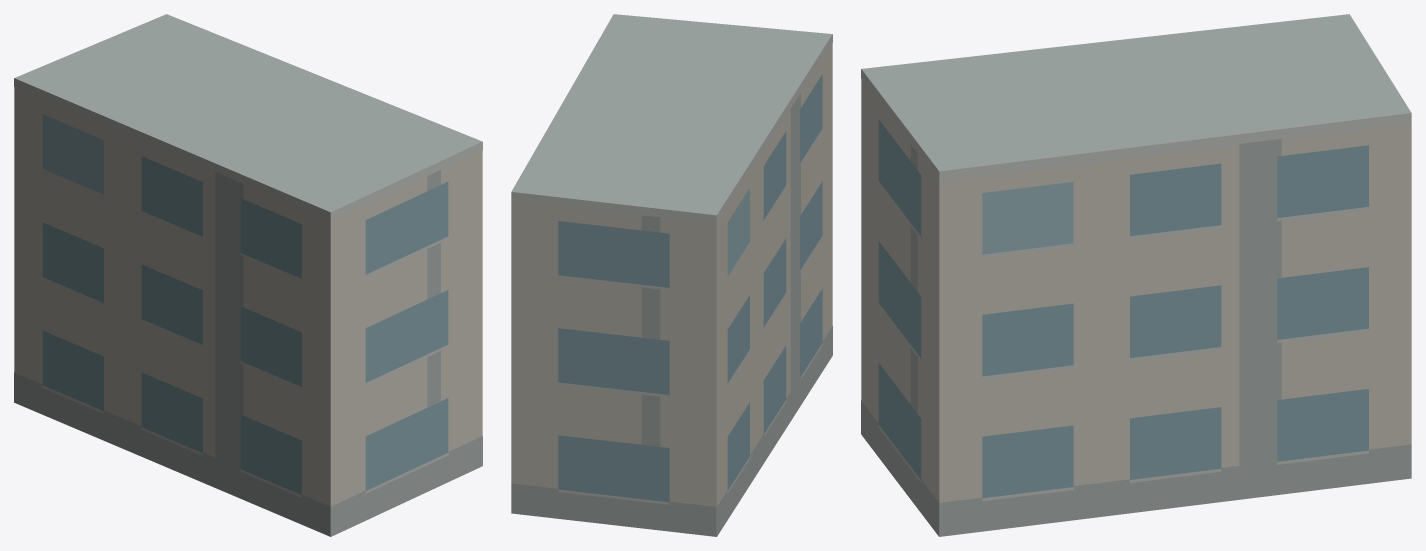
The model's file is survey-upis-32503036.glb.
3 renders of one model, left to right at view 1: azimuth 30°, elevation 25°; view 2: azimuth 150°, elevation 25°; view 3: azimuth 270°, elevation 25°, orthographic. The views are drawn at different scales.
Parts seen in each view (by area): view 1: survey-upis-32503036.tmp; view 2: survey-upis-32503036.tmp; view 3: survey-upis-32503036.tmp.
Part boxes in pixels (left/top/right/bottom): survey-upis-32503036.tmp: left=14, top=14, right=482, bottom=536; survey-upis-32503036.tmp: left=511, top=14, right=832, bottom=536; survey-upis-32503036.tmp: left=861, top=14, right=1411, bottom=536.
Size of the model in its own units: 8.46 by 9.15 by 12.5.
